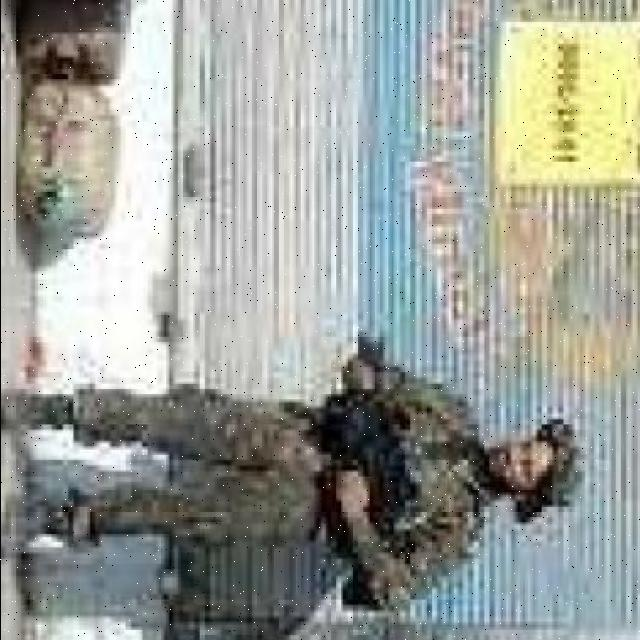Rifle: (327, 362, 424, 546), (303, 470, 384, 610)
